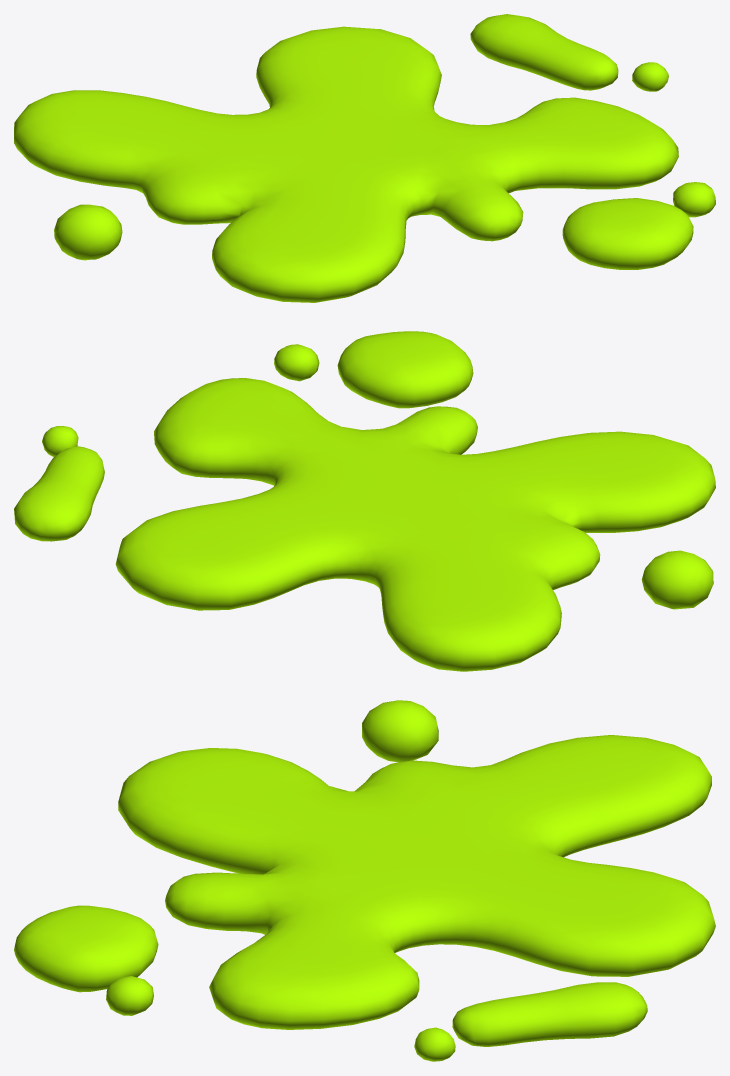
The model's file is slime.fbx.
The picture shows the model from 3 angles, top to bottom: view 1: azimuth 30°, elevation 25°; view 2: azimuth 150°, elevation 25°; view 3: azimuth 270°, elevation 25°; orthographic projection. The views are drawn at different scales.
Visible parts, largest first — view 1: PM3D_Plane3D_1; view 2: PM3D_Plane3D_1; view 3: PM3D_Plane3D_1.
Part boxes in pixels (x1=…): PM3D_Plane3D_1: x1=14, y1=14, x2=715, y2=302; PM3D_Plane3D_1: x1=14, y1=331, x2=715, y2=671; PM3D_Plane3D_1: x1=14, y1=700, x2=715, y2=1061.
Bounding box in the file's own units: 20.31 × 1.51 × 17.6.
